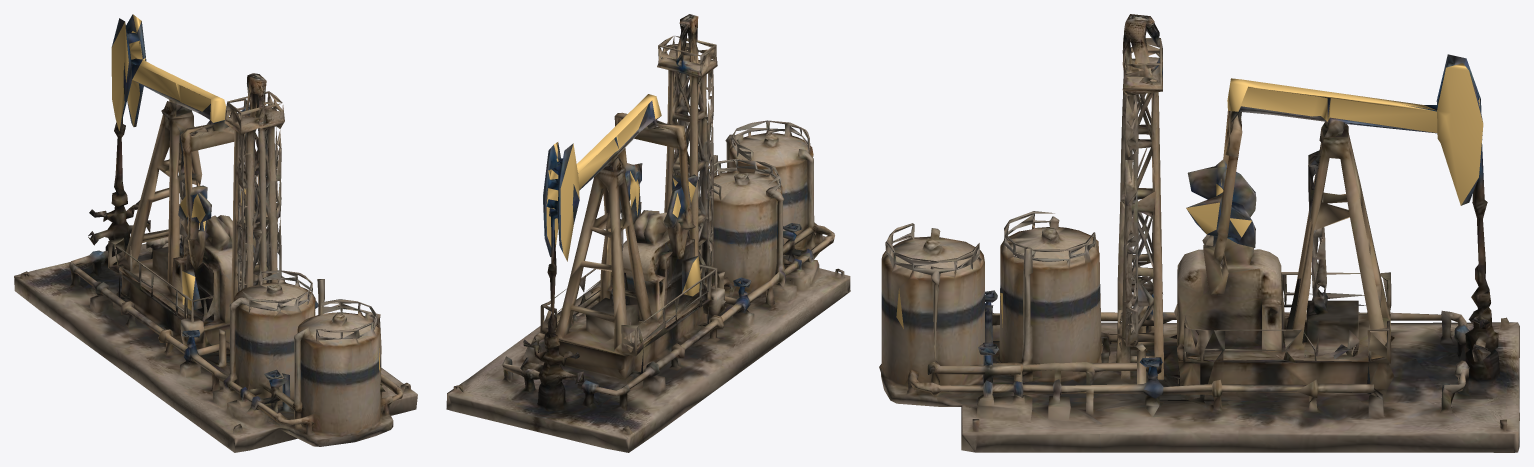
The model's file is oil_derrick.glb.
3 views of the same model, side by side, from view 1: azimuth 30°, elevation 25°; view 2: azimuth 150°, elevation 25°; view 3: azimuth 270°, elevation 25° (orthographic). The views are drawn at different scales.
Visible parts, largest first — view 1: Model; view 2: Model; view 3: Model.
Part boxes in pixels (bbox=[...]): Model: bbox=[14, 14, 417, 452]; Model: bbox=[446, 14, 850, 452]; Model: bbox=[879, 14, 1519, 452].
Size of the model in its own units: 0.8466 by 1.31 by 2.
Materials: 2 (1 with a texture image).
